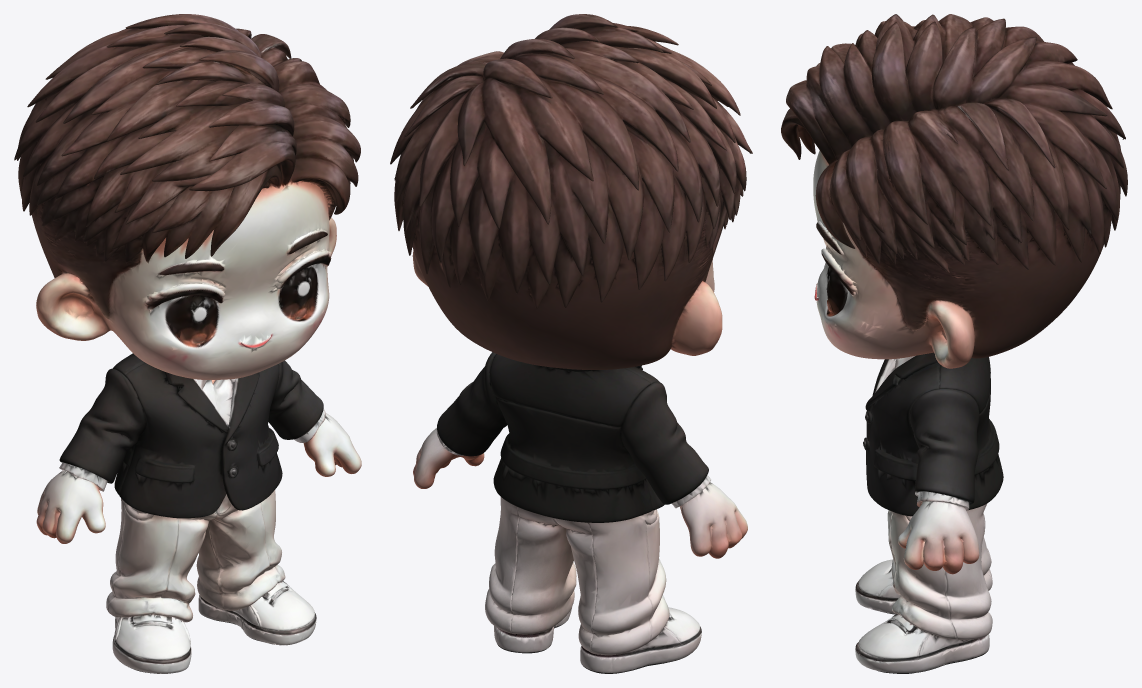
The model's file is jas_rt14.glb.
3 views of the same model, side by side, from view 1: azimuth 30°, elevation 25°; view 2: azimuth 150°, elevation 25°; view 3: azimuth 270°, elevation 25° (orthographic). The views are drawn at different scales.
Parts seen in each view (by area): view 1: tripo_node_3487e91a-53c1-4cb5-80be-489106967b08; view 2: tripo_node_3487e91a-53c1-4cb5-80be-489106967b08; view 3: tripo_node_3487e91a-53c1-4cb5-80be-489106967b08.
Part boxes in pixels (bbox=[...]): tripo_node_3487e91a-53c1-4cb5-80be-489106967b08: bbox=[14, 14, 361, 673]; tripo_node_3487e91a-53c1-4cb5-80be-489106967b08: bbox=[390, 14, 752, 673]; tripo_node_3487e91a-53c1-4cb5-80be-489106967b08: bbox=[781, 14, 1127, 673].
Bounding box in the file's own units: 0.5319 × 0.9794 × 0.5091.
Materials: 1 (1 with a texture image).
